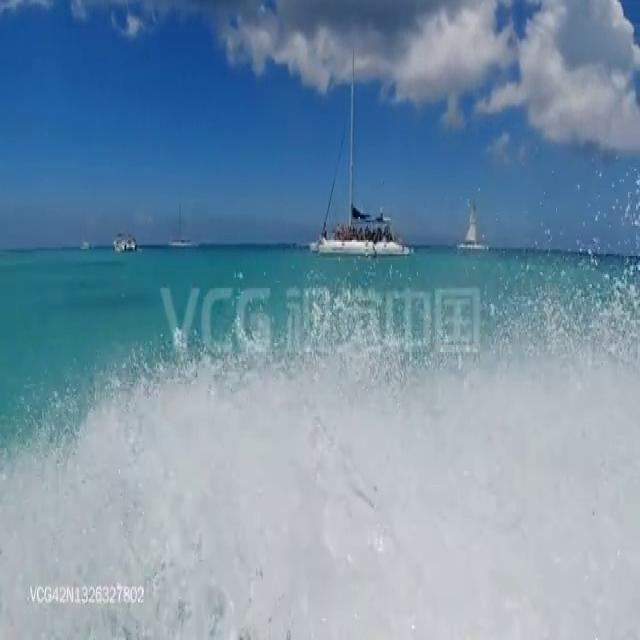houseboat: (111, 232, 136, 253)
sailboat: (317, 46, 411, 261), (458, 194, 488, 255), (165, 202, 201, 251)
